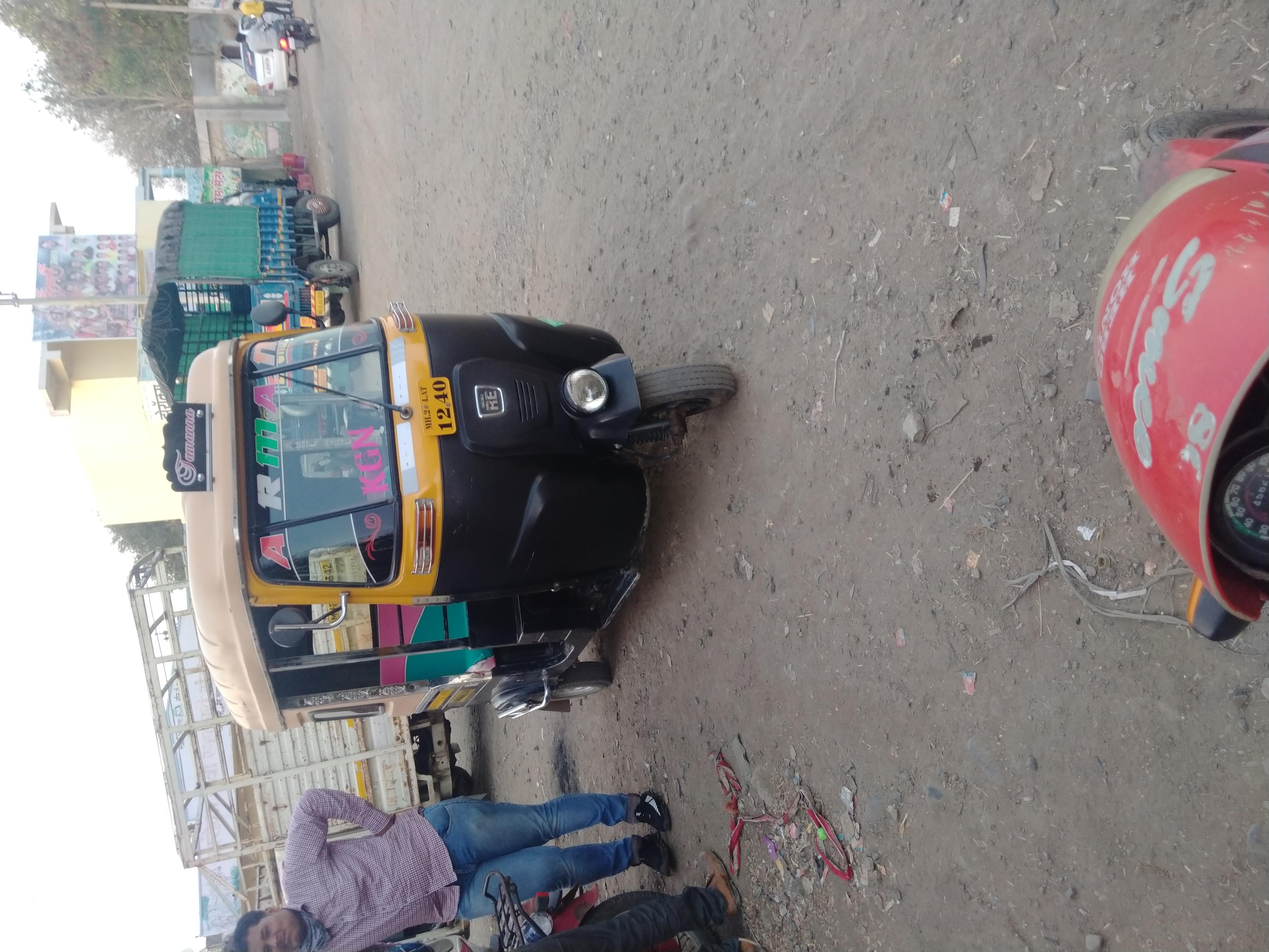Auto: (266, 120, 893, 558)
